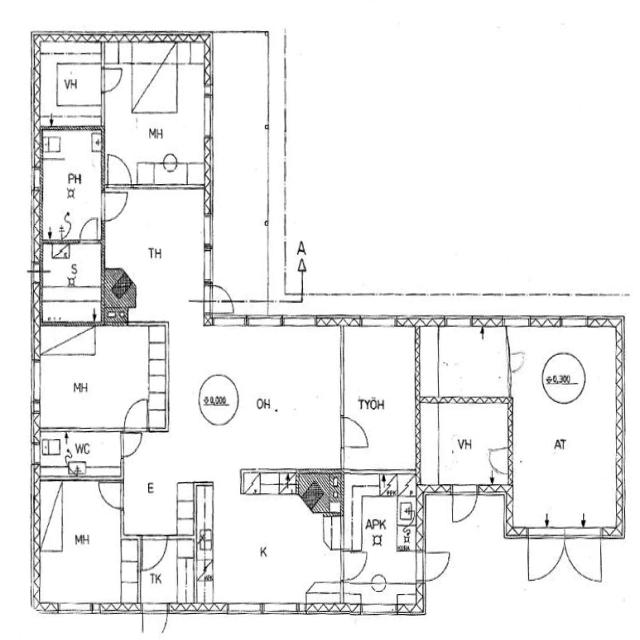door: (562, 530, 602, 586), (104, 150, 134, 199), (338, 411, 373, 452), (450, 483, 480, 528), (138, 533, 170, 573), (421, 547, 454, 583), (338, 547, 370, 583), (120, 395, 149, 434), (140, 600, 170, 637), (101, 187, 130, 223), (96, 476, 124, 512), (98, 63, 125, 95), (119, 426, 145, 459), (77, 214, 102, 244), (210, 284, 234, 308), (506, 348, 528, 374)
window: (334, 330, 350, 418), (200, 212, 217, 288), (28, 357, 45, 407), (280, 312, 321, 332), (202, 89, 217, 141), (358, 313, 398, 332), (56, 600, 95, 618), (261, 600, 300, 617), (200, 211, 216, 250), (359, 603, 398, 618), (443, 313, 474, 330)
zone: (152, 321, 345, 470), (507, 325, 622, 534), (177, 472, 339, 612), (103, 40, 212, 188), (102, 184, 210, 323), (34, 325, 167, 430), (33, 475, 130, 613), (342, 471, 424, 612), (341, 322, 418, 472), (39, 127, 104, 244), (427, 401, 512, 487), (418, 324, 511, 402), (36, 41, 103, 127), (39, 241, 102, 324), (36, 428, 124, 478), (338, 547, 369, 584)
